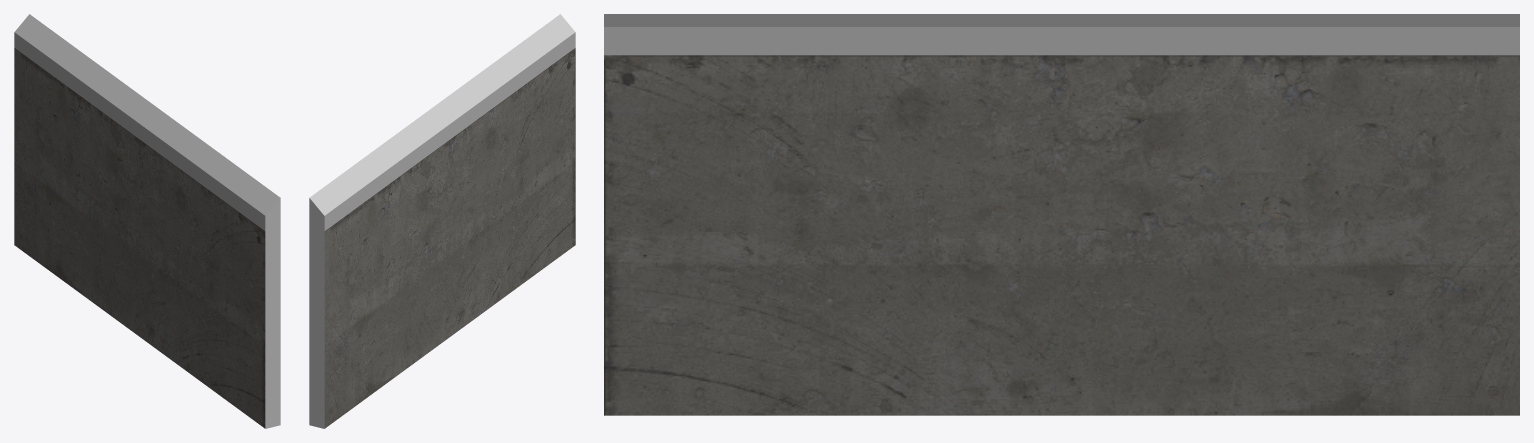
The model's file is CP_Foundation_A_2m.fbx.
3 views of the same model, side by side, from view 1: azimuth 30°, elevation 25°; view 2: azimuth 150°, elevation 25°; view 3: azimuth 270°, elevation 25° (orthographic). The views are drawn at different scales.
Visible parts, largest first — view 1: CP_Foundation_A_2m; view 2: CP_Foundation_A_2m; view 3: CP_Foundation_A_2m.
Part boxes in pixels (left/top/right/bottom): CP_Foundation_A_2m: left=14, top=14, right=280, bottom=428; CP_Foundation_A_2m: left=309, top=14, right=575, bottom=428; CP_Foundation_A_2m: left=604, top=14, right=1519, bottom=415.
Bounding box in the file's own units: 6.94 × 100 × 200.
